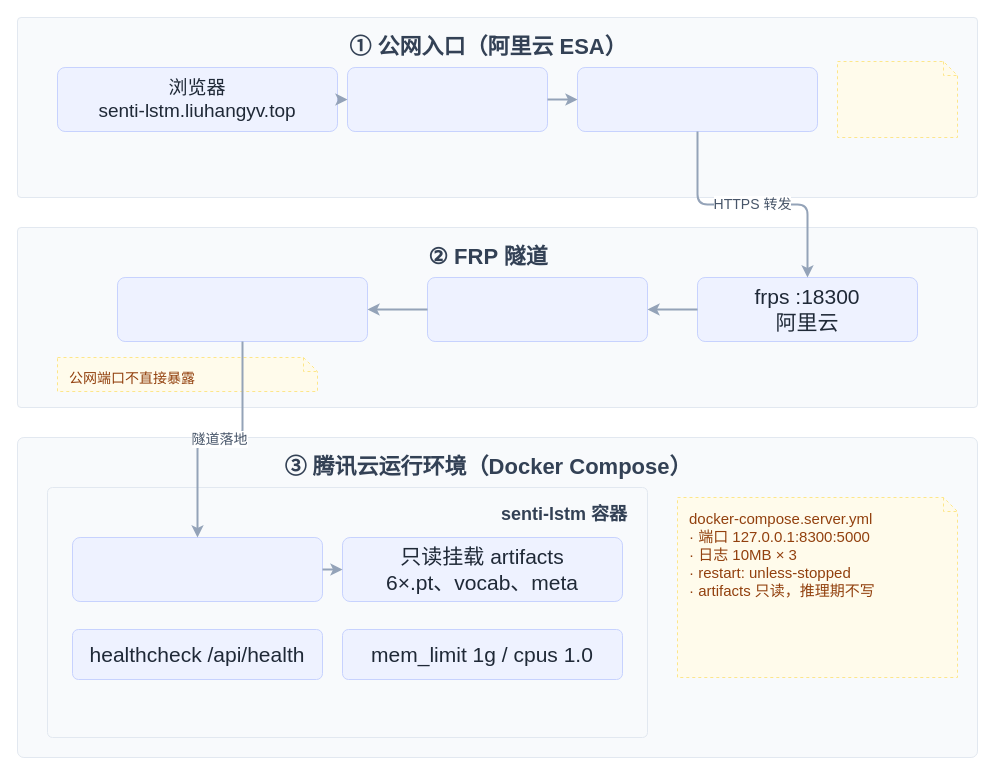
Some shapes in this 995 by 775 pixel diagram are drawn without their labels. The shapes that lost their labels are listed below. From the top down, each one's centre as x and y in pixels, then its label:
At point 447,99: "阿里云 ESA CDN / HTTPS".
At point 697,99: "OpenResty 反向代理 阿里云 443".
At point 897,99: "证书终止 静态压缩".
At point 242,309: "127.0.0.1:8300 只绑回环".
At point 537,309: "frpc 客户端 腾讯云".
At point 197,569: "Flask + SPA 静态托管 容器内 5000".
